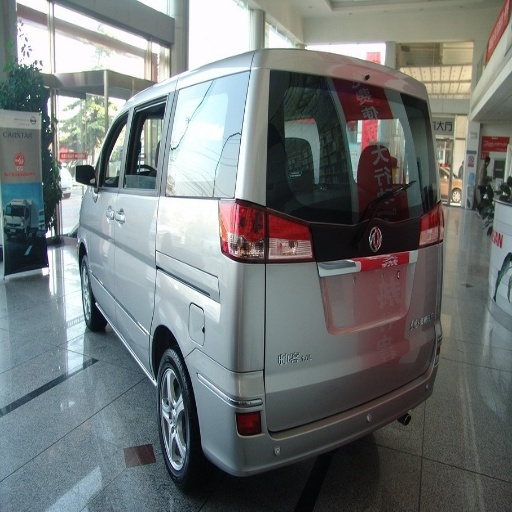back_bumper: (188, 245, 439, 477)
back_glass: (213, 79, 382, 206)
back_left_door: (165, 94, 202, 153)
back_left_light: (219, 201, 267, 262)
trunk: (239, 210, 417, 381), (127, 190, 224, 352)
